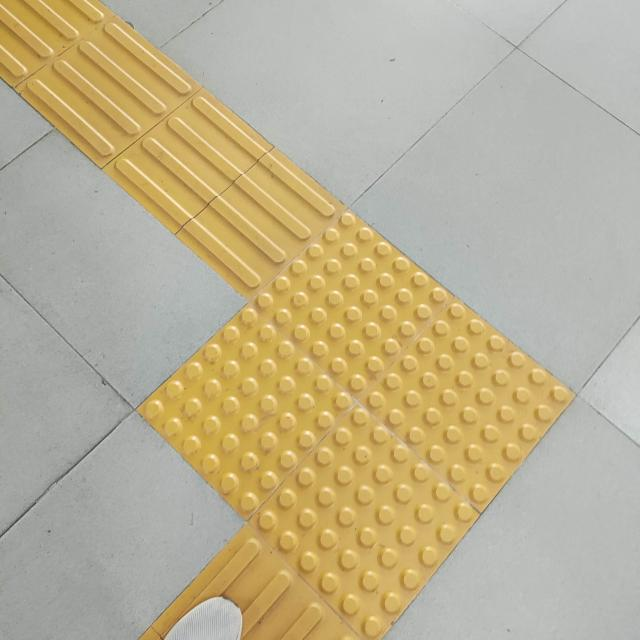kiri: (100, 23, 571, 611)
